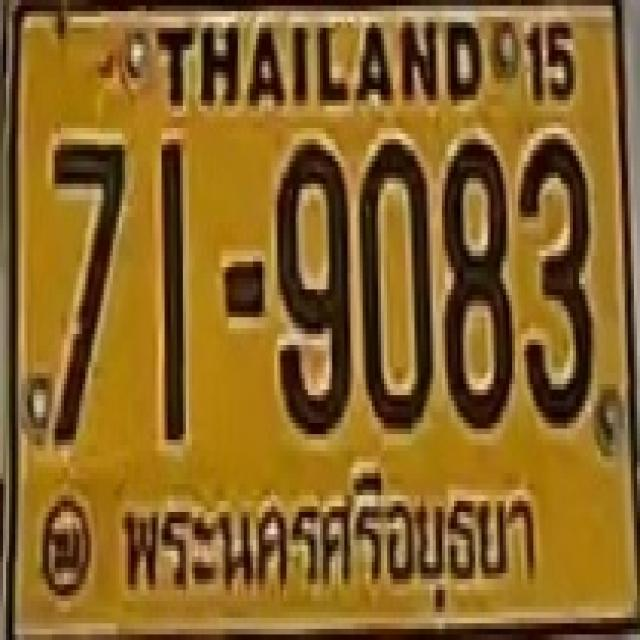0: (358, 134, 431, 423)
1: (158, 136, 183, 437)
3: (518, 134, 591, 423)
7: (52, 139, 125, 440)
8: (442, 134, 509, 423)
9: (274, 139, 348, 429)
AYA: (108, 471, 549, 629)
